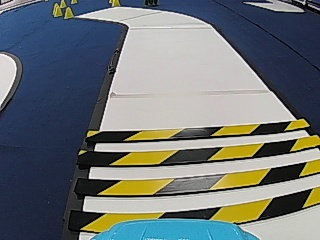bump: (71, 114, 312, 222)
